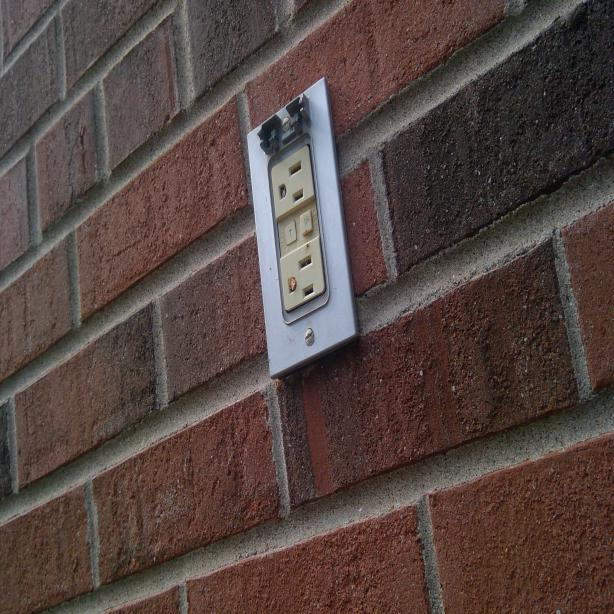typeb: (279, 244, 321, 304), (271, 157, 311, 214)
